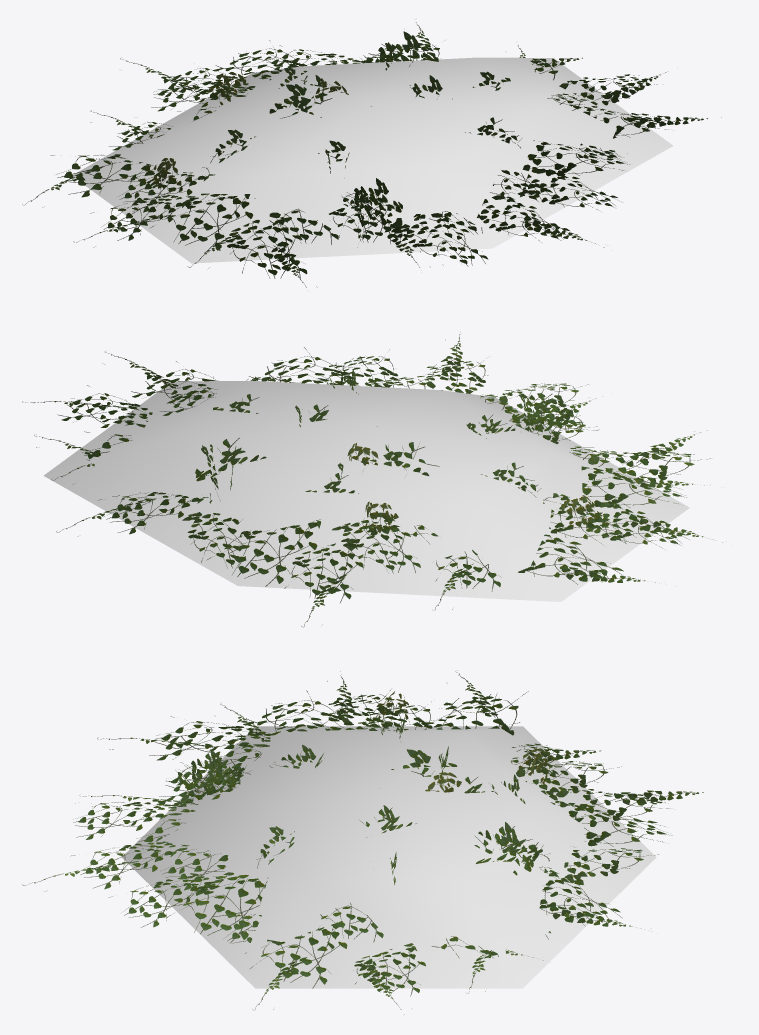
The model's file is vine02_wall_painting.dae.
3 renders of one model, top to bottom at view 1: azimuth 30°, elevation 25°; view 2: azimuth 150°, elevation 25°; view 3: azimuth 270°, elevation 25°, orthographic. The views are drawn at different scales.
Parts seen in each view (by area): view 1: colmesh_vine02_wall_paint-1, vine02_wall_paint_a200, vine02_wall_paint_a300; view 2: colmesh_vine02_wall_paint-1, vine02_wall_paint_a200, vine02_wall_paint_a300; view 3: colmesh_vine02_wall_paint-1, vine02_wall_paint_a200, vine02_wall_paint_a300.
Boxes of the visible parts, left/top/right/bottom form: colmesh_vine02_wall_paint-1: left=73, top=57, right=673, bottom=263; vine02_wall_paint_a200: left=50, top=31, right=668, bottom=279; vine02_wall_paint_a300: left=22, top=22, right=721, bottom=287; colmesh_vine02_wall_paint-1: left=43, top=381, right=689, bottom=601; vine02_wall_paint_a200: left=57, top=347, right=710, bottom=602; vine02_wall_paint_a300: left=22, top=334, right=722, bottom=627; colmesh_vine02_wall_paint-1: left=121, top=726, right=656, bottom=988; vine02_wall_paint_a200: left=70, top=690, right=672, bottom=996; vine02_wall_paint_a300: left=22, top=671, right=703, bottom=1014.
Size of the model in its own units: 8.6 by 7.55 by 1.02.
